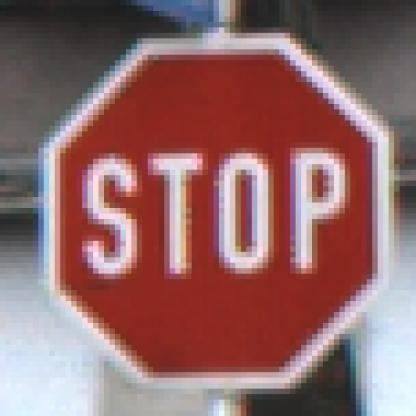Stop: (46, 40, 388, 380)
